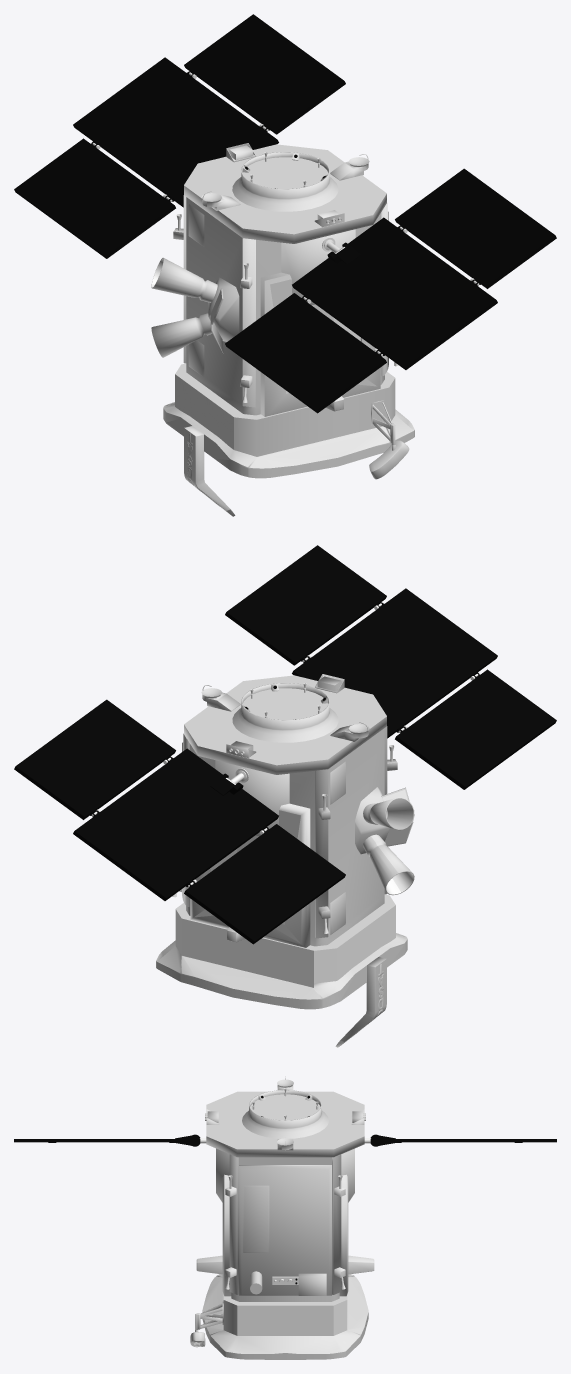
The model's file is CloudSat-label-body.fbx.
The picture shows the model from 3 angles, top to bottom: view 1: azimuth 30°, elevation 25°; view 2: azimuth 150°, elevation 25°; view 3: azimuth 270°, elevation 25°; orthographic projection. The views are drawn at different scales.
Visible parts, largest first — view 1: CloudSat-label-body; view 2: CloudSat-label-body; view 3: CloudSat-label-body.
Boxes of the visible parts, x1,y1,x2,y2 form: CloudSat-label-body: [14, 14, 556, 516]; CloudSat-label-body: [14, 545, 556, 1047]; CloudSat-label-body: [14, 1076, 556, 1359].
Bounding box in the file's own units: 44.26 × 58.92 × 102.
Materials: 7 (3 with a texture image).
